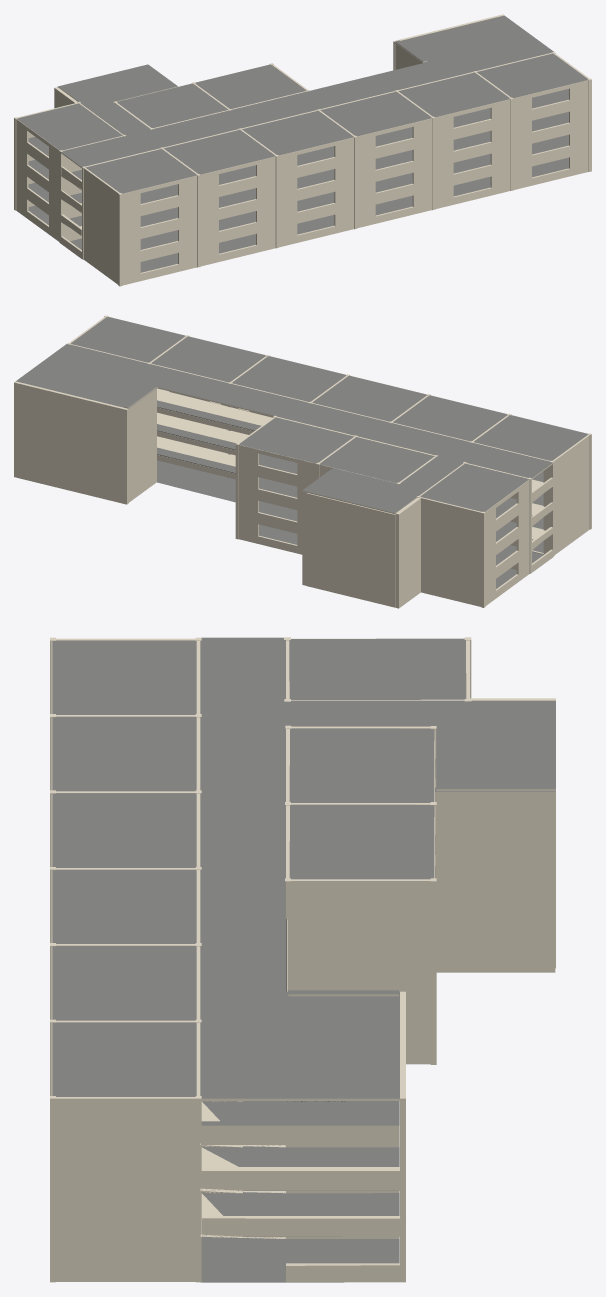
Rendered from Olopsc_Building.glb.
3 renders of one model, top to bottom at view 1: azimuth 30°, elevation 25°; view 2: azimuth 150°, elevation 25°; view 3: azimuth 270°, elevation 25°, orthographic. The views are drawn at different scales.
Visible parts, largest first — view 1: Corridor_Guards_Roof-col, 406-col, 401-col, 404-col, 405-col, 402-col, 403-col, 2nd_Flr_CR.013-col, 2nd_Flr_CR.014-col, 2nd_Flr_CR.015-col, 306-col, 102-col (+21 smaller); view 2: Corridor_Guards_Roof-col, Corridor_1F-col, BackStair_Wall_N-col, 2nd_Flr_CR.013-col, 2nd_Flr_CR.015-col, 406-col, 2nd_Flr_CR.014-col, 402-col, 403-col, 401-col, 404-col, 405-col (+15 smaller); view 3: Corridor_Guards_Roof-col, BackStair_Wall_E-col, 401-col, 2nd_Flr_CR.015-col, Corridor_1F-col, 2nd_Flr_CR.014-col, 2nd_Flr_CR.013-col, 404-col, 406-col, 402-col, 405-col, 403-col (+11 smaller).
Part boxes in pixels (<box>): Corridor_Guards_Roof-col: <box>57,15,553,167</box>; 406-col: <box>82,148,197,217</box>; 401-col: <box>473,52,591,121</box>; 404-col: <box>238,110,353,179</box>; 405-col: <box>160,129,275,198</box>; 402-col: <box>395,72,510,141</box>; 403-col: <box>317,91,432,160</box>; 2nd_Flr_CR.013-col: <box>14,101,125,174</box>; 2nd_Flr_CR.014-col: <box>114,82,231,129</box>; 2nd_Flr_CR.015-col: <box>195,63,309,109</box>; 306-col: <box>82,190,197,240</box>; 102-col: <box>297,168,510,234</box>; Corridor_Guards_Roof-col: <box>16,344,553,513</box>; Corridor_1F-col: <box>14,381,552,570</box>; BackStair_Wall_N-col: <box>307,493,395,607</box>; 2nd_Flr_CR.013-col: <box>417,462,531,536</box>; 2nd_Flr_CR.015-col: <box>235,415,354,485</box>; 406-col: <box>473,415,591,485</box>; 2nd_Flr_CR.014-col: <box>316,435,437,484</box>; 402-col: <box>151,336,269,407</box>; 403-col: <box>231,356,350,417</box>; 401-col: <box>67,315,188,364</box>; 404-col: <box>312,375,430,423</box>; 405-col: <box>393,395,511,442</box>; Corridor_Guards_Roof-col: <box>200,637,555,1100</box>; BackStair_Wall_E-col: <box>435,787,555,972</box>; 401-col: <box>50,1019,201,1144</box>; 2nd_Flr_CR.015-col: <box>285,804,436,927</box>; Corridor_1F-col: <box>200,991,405,1282</box>; 2nd_Flr_CR.014-col: <box>285,725,436,850</box>; 2nd_Flr_CR.013-col: <box>284,637,471,701</box>; 404-col: <box>50,790,201,867</box>; 406-col: <box>50,637,201,714</box>; 402-col: <box>50,943,201,1020</box>; 405-col: <box>50,714,201,791</box>; 403-col: <box>50,867,201,943</box>.
Size of what is drawn, in the model's own units: 112 by 21.04 by 51.96.
